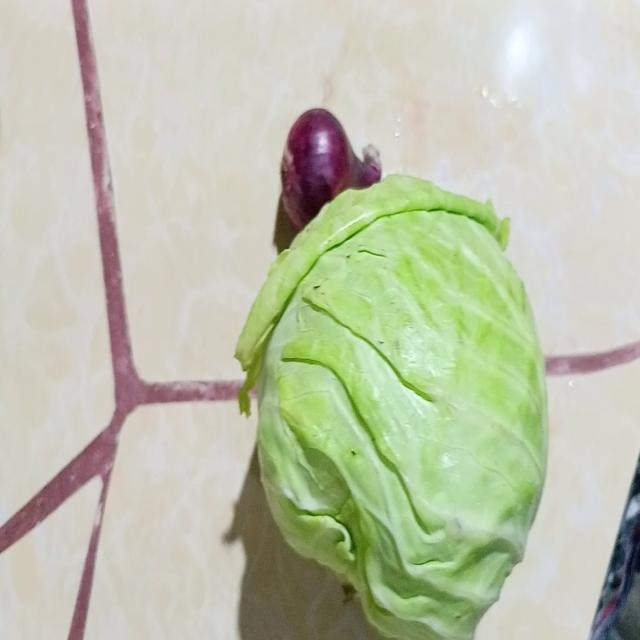cabbage: (235, 175, 549, 640)
onion: (280, 108, 382, 233)
